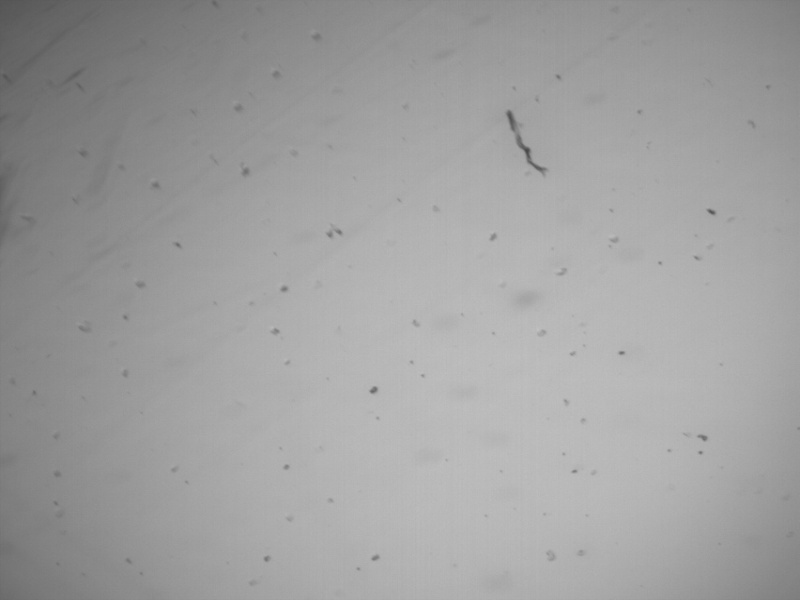fiber: (505, 106, 549, 179)
